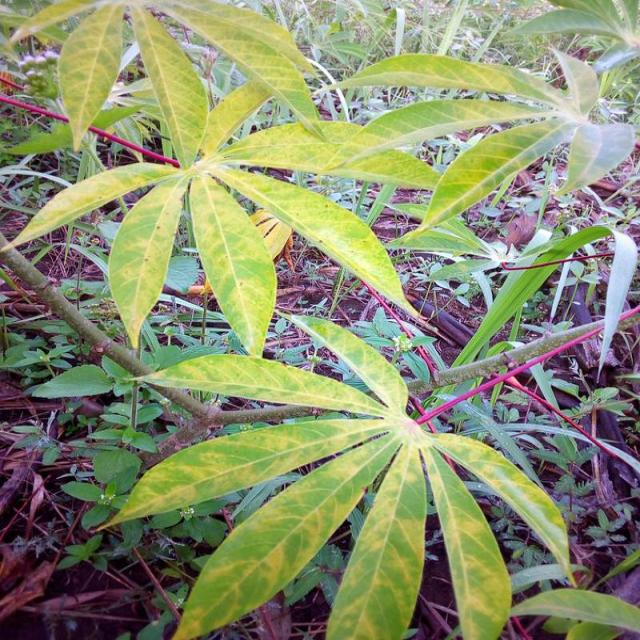cassava leaf: (4, 1, 637, 638), (96, 308, 576, 638)
